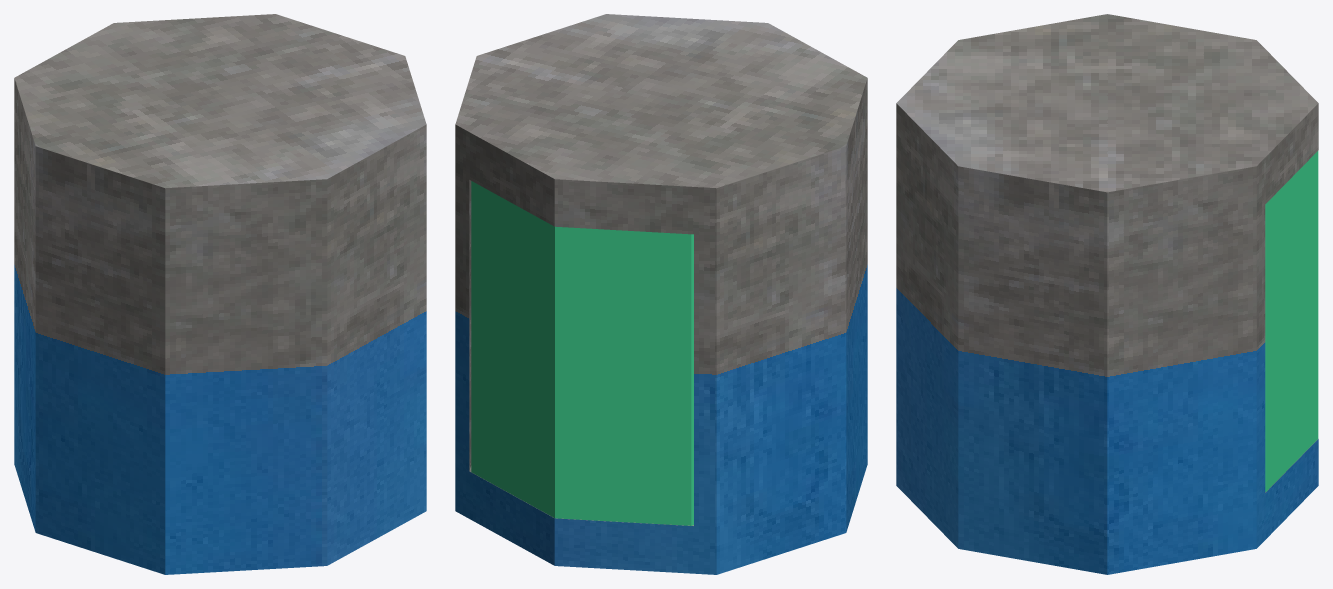
The model's file is kapsula.glb.
3 views of the same model, side by side, from view 1: azimuth 30°, elevation 25°; view 2: azimuth 150°, elevation 25°; view 3: azimuth 270°, elevation 25° (orthographic).
Parts seen in each view (by area): view 1: Cylinder; view 2: Cylinder, Cylinder.001; view 3: Cylinder, Cylinder.001.
Boxes of the visible parts, x1,y1,x2,y2 form: Cylinder: [14, 14, 426, 574]; Cylinder: [455, 14, 867, 574]; Cylinder.001: [471, 181, 693, 525]; Cylinder: [896, 14, 1318, 574]; Cylinder.001: [1265, 151, 1318, 491].
Bounding box in the file's own units: 2 × 2 × 2.
2 materials, 1 textured.
